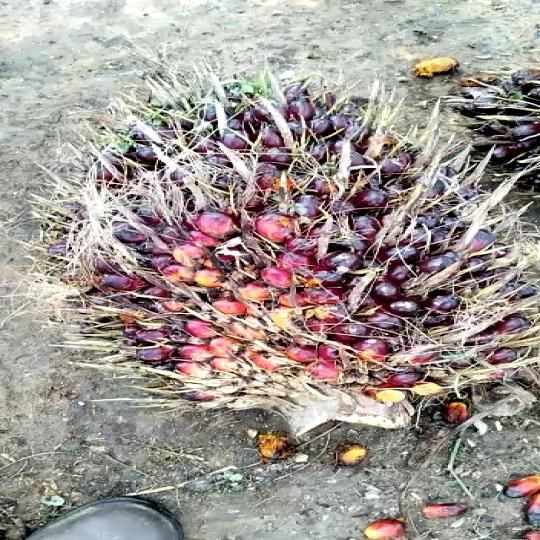kurang masak: (43, 80, 540, 437)
